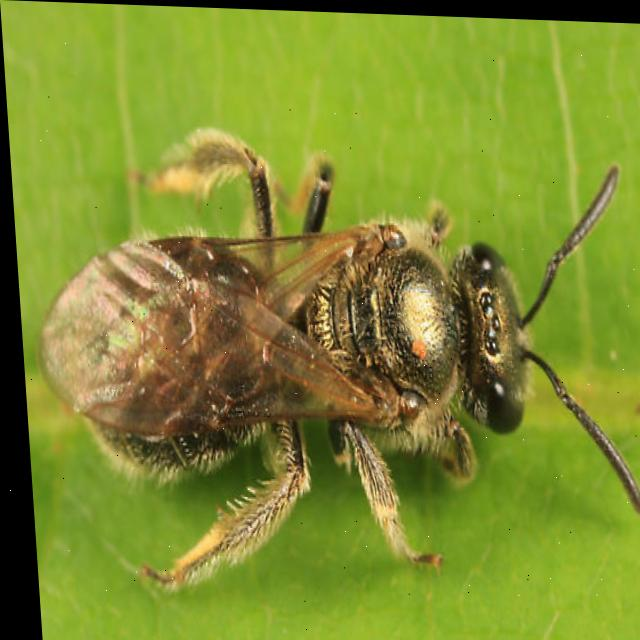Meliponula: (25, 90, 640, 614)
